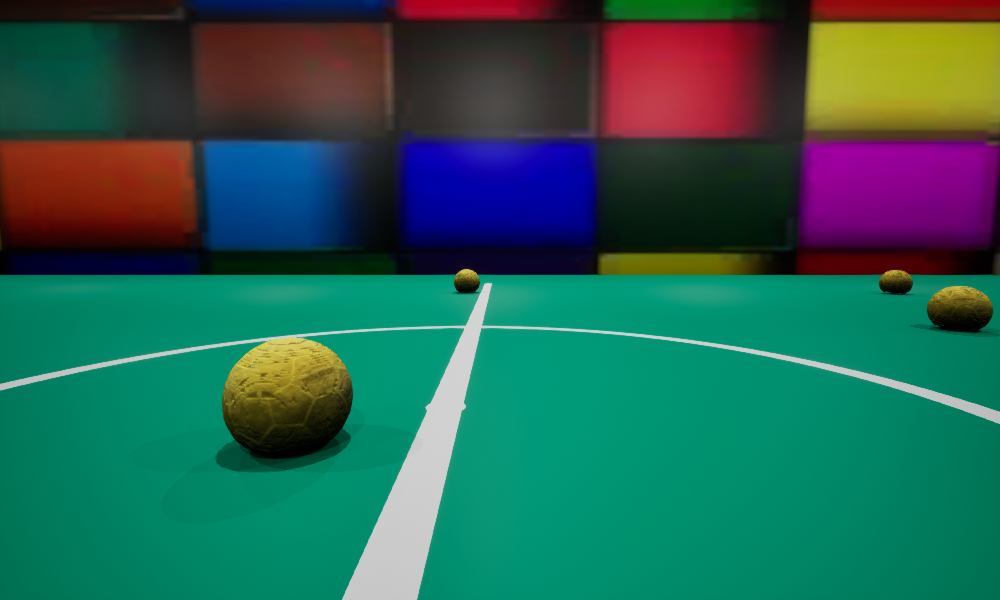b: (222, 337, 352, 453), (927, 286, 992, 330), (879, 270, 912, 293), (454, 269, 479, 292)
